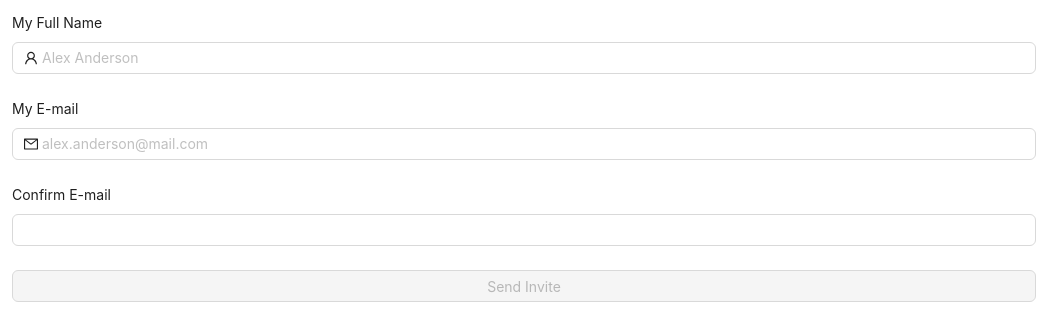
Test: RequestEmailForm › Error Inputs › show validation error message on incorrect email
The width and height of the screenshot is (1048, 319).
Type "bun@world.c" into the field labelled "My E-mail".
click(533, 144); type("bun@world.c")  # box [42,133,1024,155]
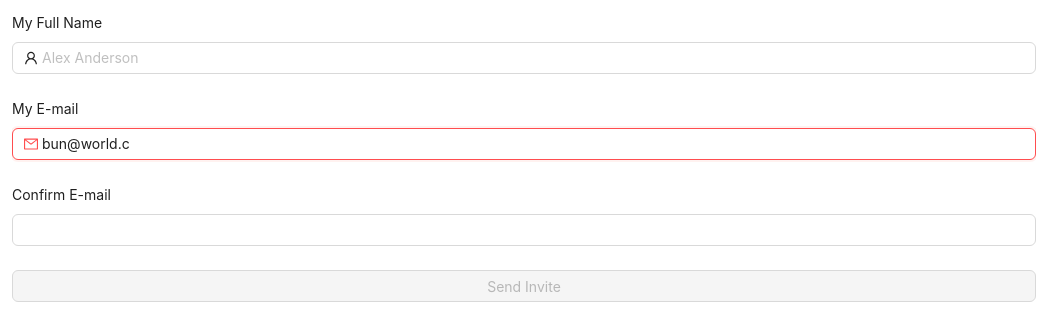
Press Tab
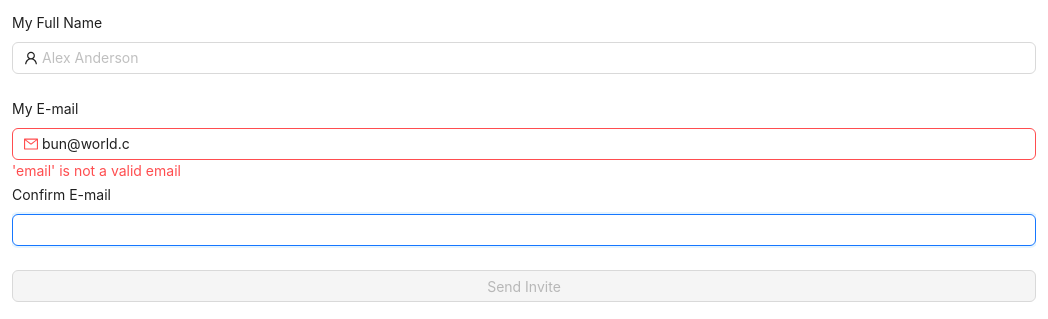
Check: the text "'email' is not a valid email" is shown, box [12,162,181,179]
